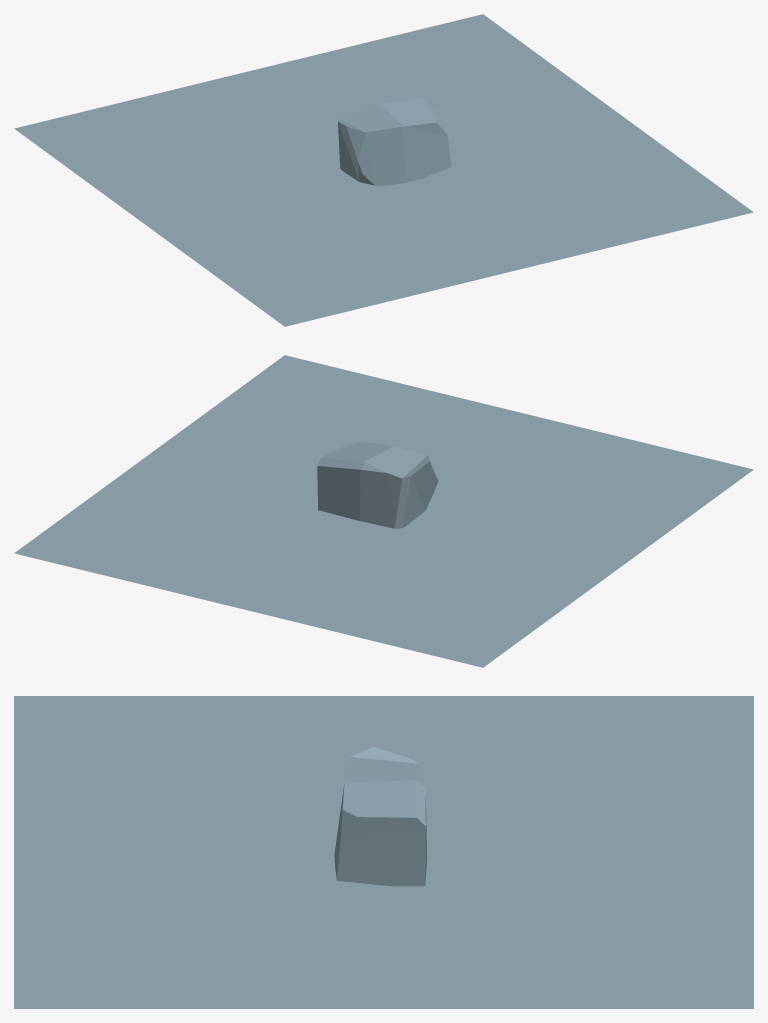
File: Tile 57_Combined.fbx
3 renders of one model, top to bottom at view 1: azimuth 30°, elevation 25°; view 2: azimuth 150°, elevation 25°; view 3: azimuth 270°, elevation 25°, orthographic. The views are drawn at different scales.
Visible parts, largest first — view 1: MeshBaker_mesh_mesh; view 2: MeshBaker_mesh_mesh; view 3: MeshBaker_mesh_mesh.
Boxes of the visible parts, left/top/right/bottom form: MeshBaker_mesh_mesh: left=14, top=14, right=753, bottom=326; MeshBaker_mesh_mesh: left=14, top=355, right=753, bottom=667; MeshBaker_mesh_mesh: left=14, top=696, right=753, bottom=1008.
Size of the model in its own units: 3000 by 365 by 3000.
